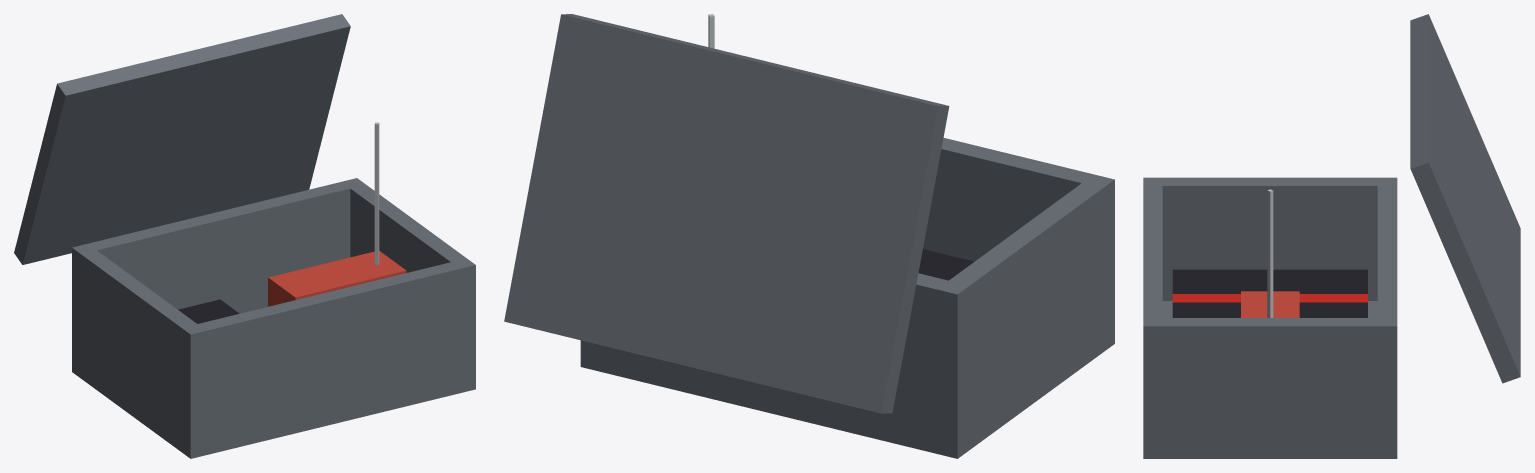
The model's file is code_box.glb.
The picture shows the model from 3 angles, left to right: view 1: azimuth 30°, elevation 25°; view 2: azimuth 150°, elevation 25°; view 3: azimuth 270°, elevation 25°; orthographic projection. The views are drawn at different scales.
Parts seen in each view (by area): view 1: sides_box_grey, lid_box_grey, bottom_box_grey, radio_radio_red, antenna_steel, book_book_black; view 2: lid_box_grey, sides_box_grey, bottom_box_grey, book_book_black; view 3: sides_box_grey, lid_box_grey, book_book_black, bottom_box_grey, radio_radio_red, book_mark_cross_red, antenna_steel.
Boxes of the visible parts, x1,y1,x2,y2 form: sides_box_grey: (72,178,475,449); lid_box_grey: (14,14,350,264); bottom_box_grey: (72,362,475,458); radio_radio_red: (268,251,406,306); antenna_steel: (374,122,379,265); book_book_black: (178,299,239,323); lid_box_grey: (504,14,949,413); sides_box_grey: (580,138,1114,447); bottom_box_grey: (580,324,1114,458); book_book_black: (918,249,973,280); sides_box_grey: (1143,177,1397,449); lid_box_grey: (1410,14,1520,383); book_book_black: (1172,269,1367,317); bottom_box_grey: (1143,301,1397,458); radio_radio_red: (1241,291,1299,317); book_mark_cross_red: (1172,294,1367,302); antenna_steel: (1267,189,1273,317).
Bounding box in the file's own units: 0.36 × 0.3348 × 0.3864.
